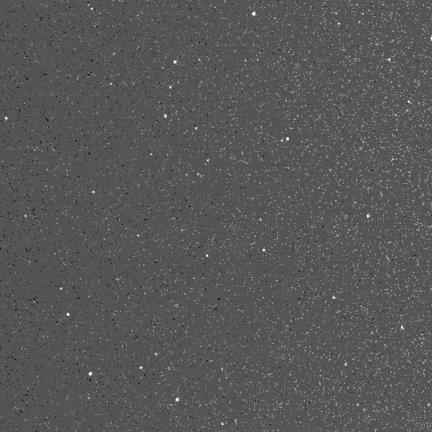blob: (252, 11, 256, 16), (174, 60, 178, 65), (5, 117, 9, 121), (67, 313, 71, 317), (89, 372, 93, 376), (286, 137, 290, 141), (388, 58, 392, 62), (176, 397, 179, 402), (333, 296, 336, 300), (367, 214, 370, 218), (60, 287, 63, 291), (155, 353, 158, 357), (206, 254, 209, 258), (401, 325, 404, 329), (164, 114, 167, 118), (92, 191, 96, 194), (263, 249, 266, 253), (222, 422, 225, 426), (91, 8, 94, 11), (195, 127, 198, 130), (169, 86, 172, 89), (197, 173, 200, 176), (140, 367, 143, 370), (25, 215, 27, 218), (151, 153, 153, 156)
